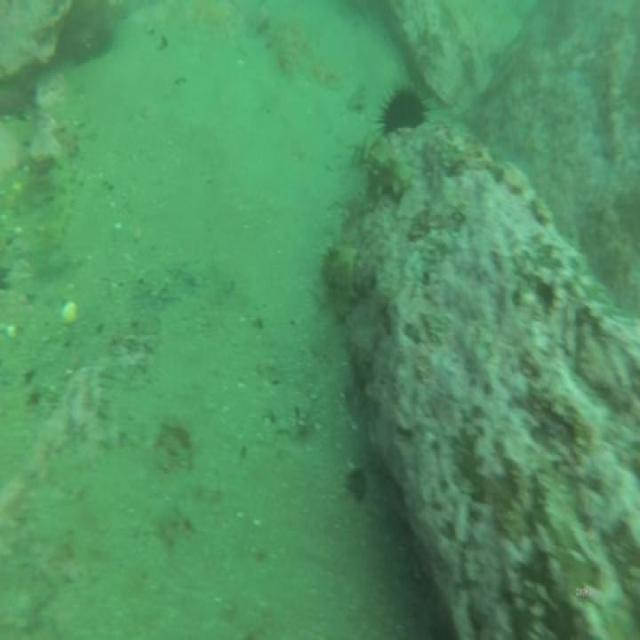echinus: (381, 79, 426, 139)
holothurian: (354, 131, 412, 201), (41, 142, 77, 250), (319, 237, 360, 310)
